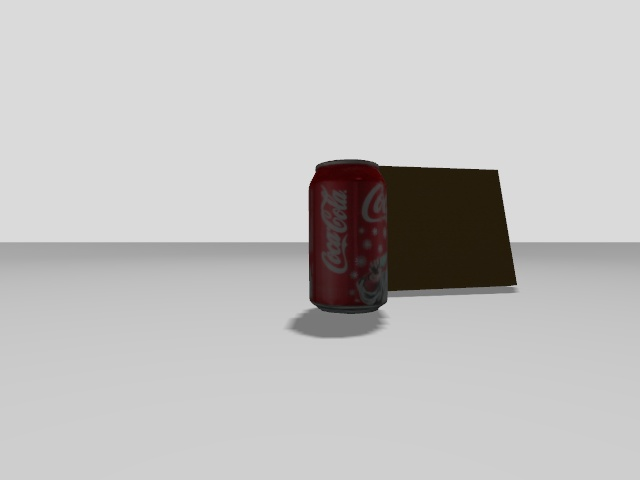canette: (309, 160, 389, 315)
carton: (379, 166, 518, 291)
